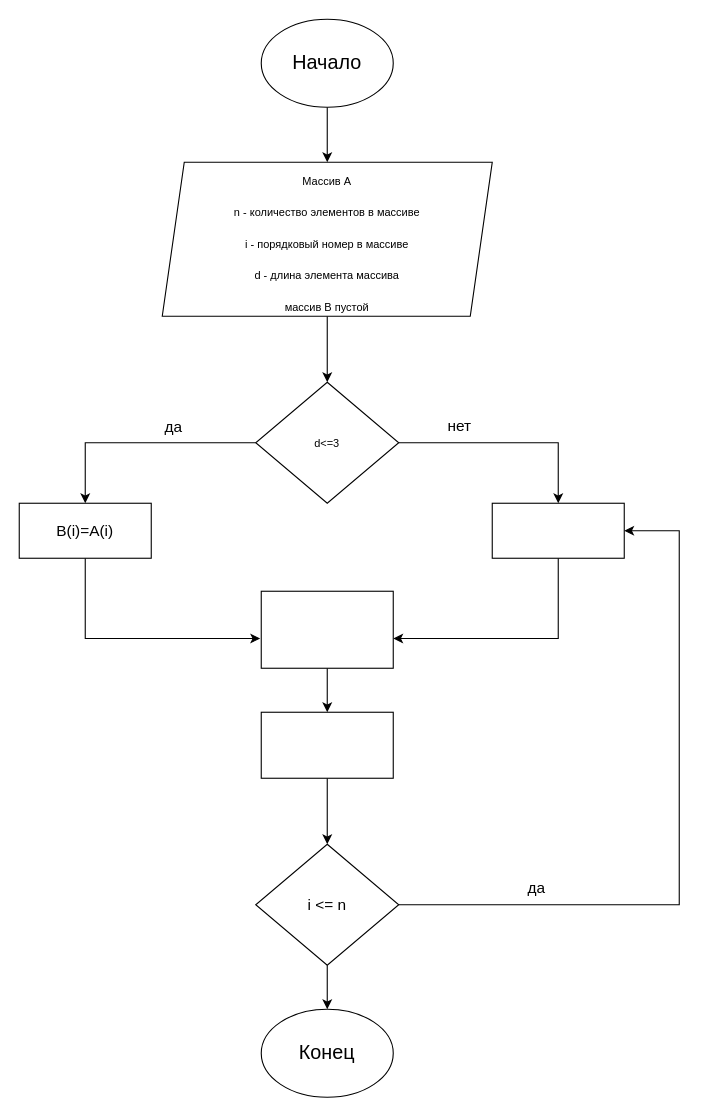
The diagram is 707 pixels wide and 1117 high, and some of its shapes have lost their labels. Each missing label, with the box of its shape:
B(i)=Empty: (491, 502, 624, 558)
i= i+1: (260, 711, 393, 778)
выводим B(i) на печать: (260, 590, 393, 668)
